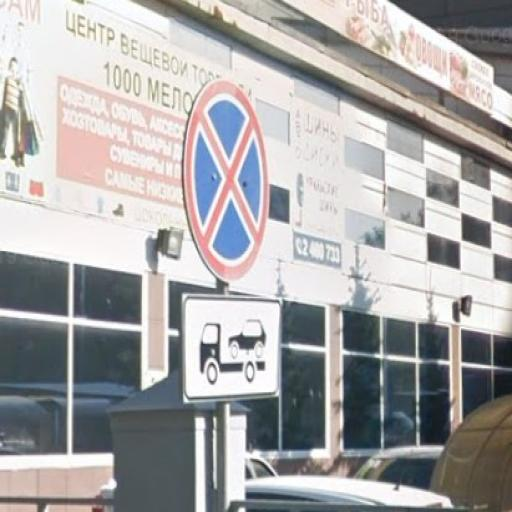traffic_sign: (182, 75, 274, 288)
